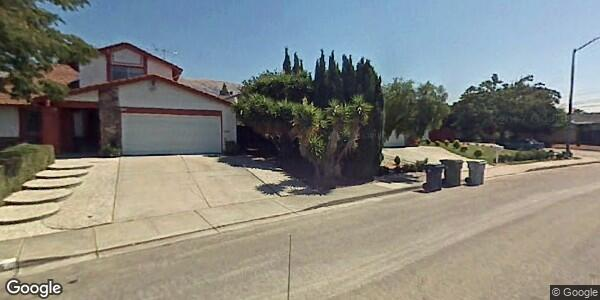Steel_Pole: (562, 35, 599, 160)
